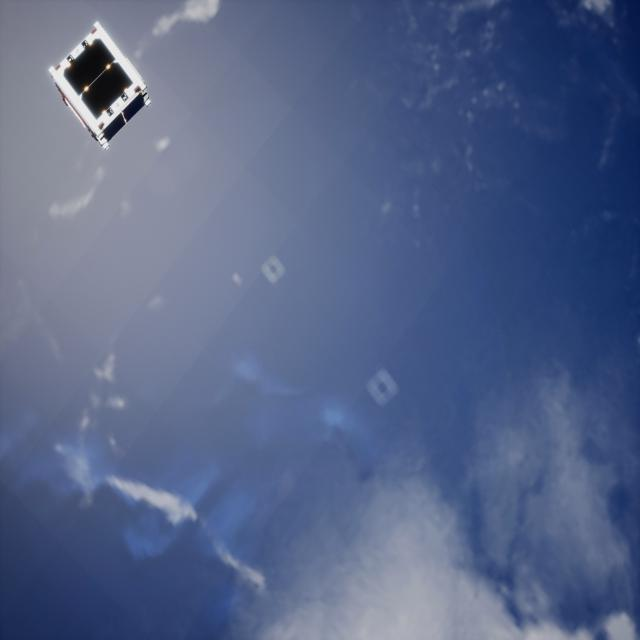medium_debris: (42, 18, 152, 148)
